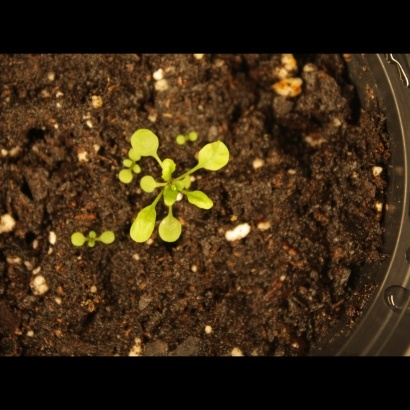leaf: (196, 136, 239, 171), (128, 206, 162, 245), (127, 125, 160, 160), (158, 211, 187, 247), (182, 189, 220, 213), (161, 181, 184, 211), (66, 227, 89, 250), (95, 227, 118, 250), (111, 170, 134, 193), (119, 146, 142, 169), (139, 173, 162, 196), (159, 157, 182, 180)
